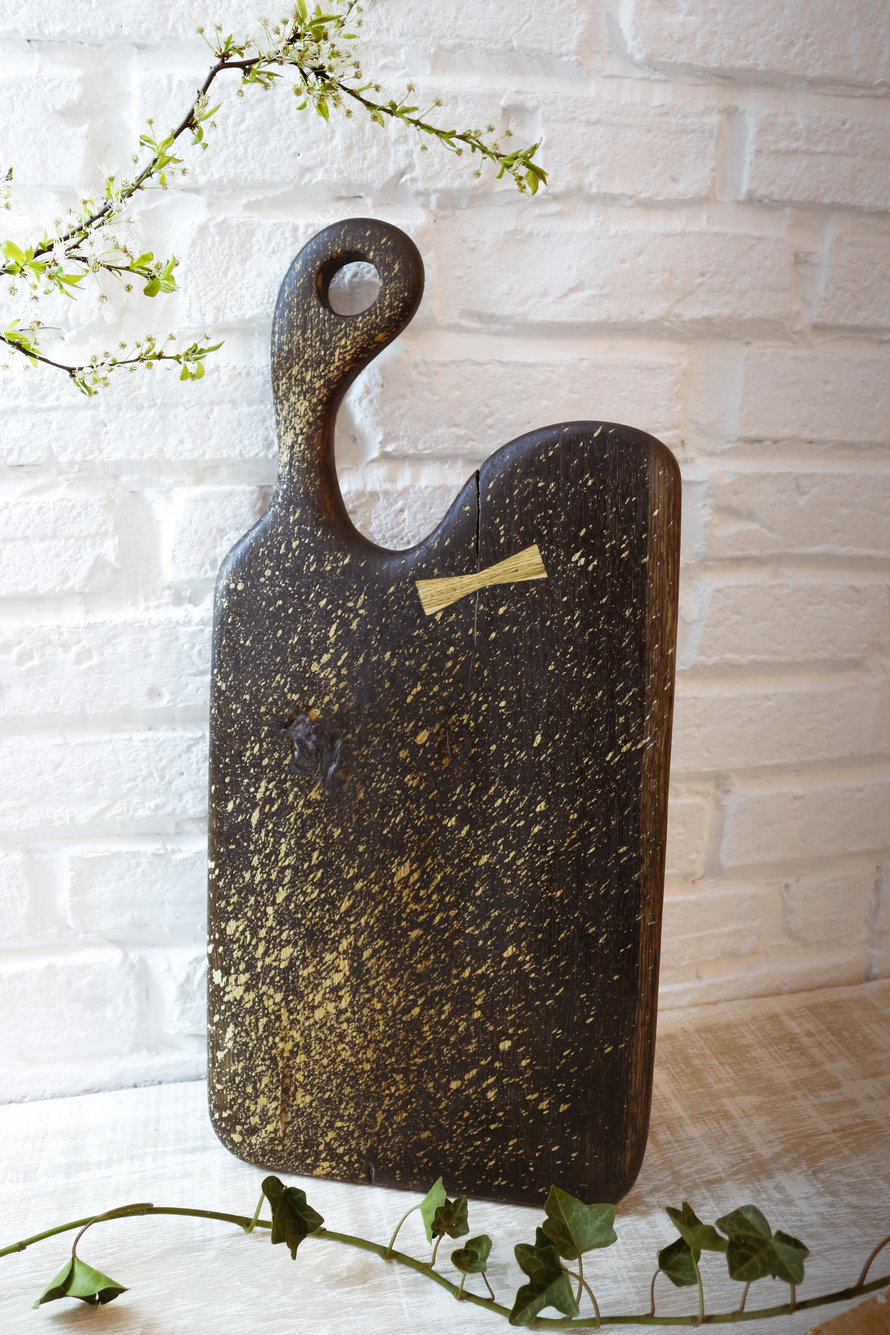gloved_hand: (191, 199, 698, 1219)
